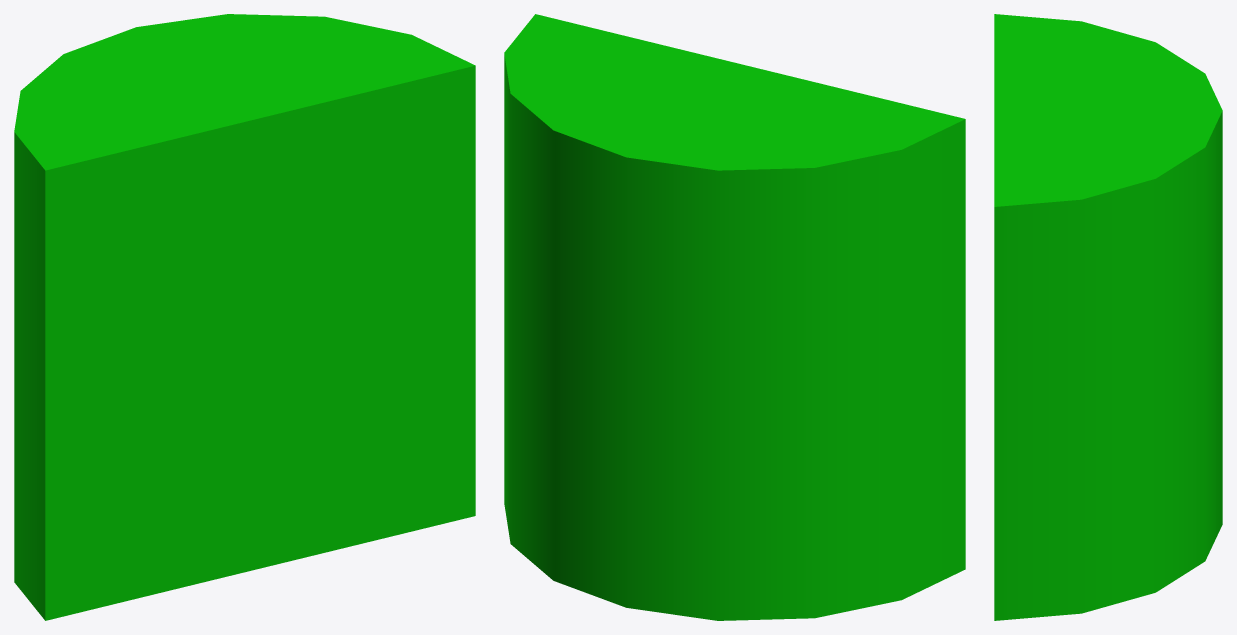
File: UCXKugelbahn.50.fbx
The picture shows the model from 3 angles, left to right: view 1: azimuth 30°, elevation 25°; view 2: azimuth 150°, elevation 25°; view 3: azimuth 270°, elevation 25°; orthographic projection. The views are drawn at different scales.
Visible parts, largest first — view 1: UCX_Kugelbahn.50_low; view 2: UCX_Kugelbahn.50_low; view 3: UCX_Kugelbahn.50_low.
Part boxes in pixels (bbox=[...]): UCX_Kugelbahn.50_low: bbox=[14, 14, 475, 620]; UCX_Kugelbahn.50_low: bbox=[504, 14, 965, 620]; UCX_Kugelbahn.50_low: bbox=[994, 14, 1222, 620].
Size of the model in its own units: 0.05 by 0.05 by 0.025.
